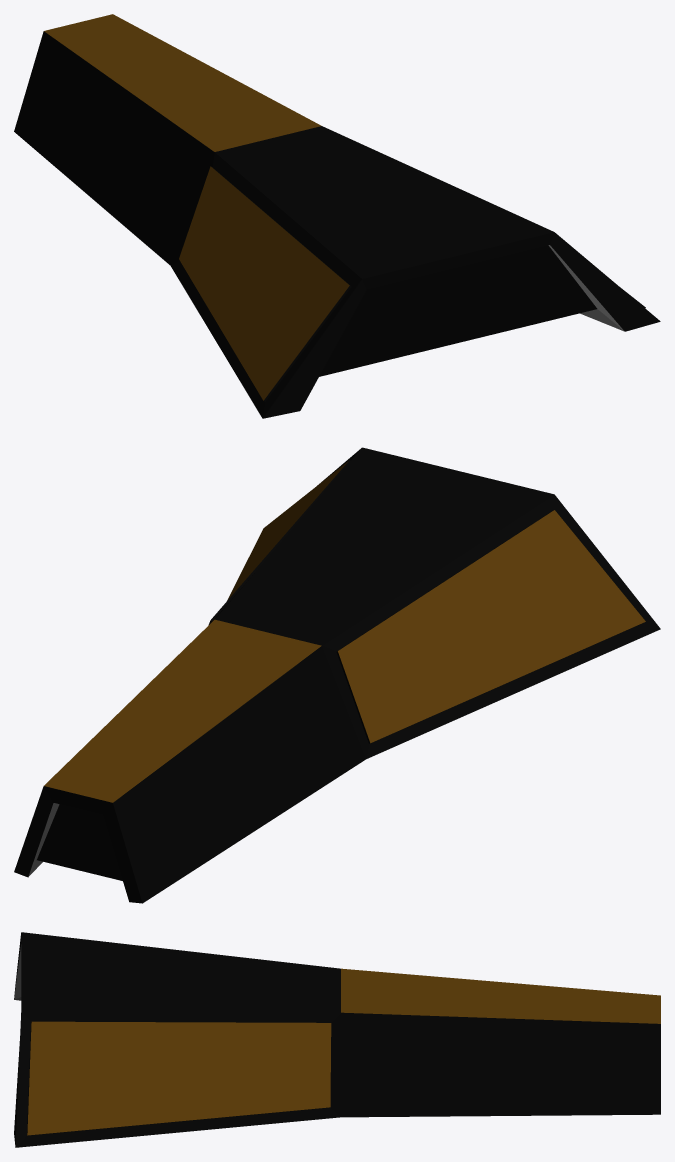
Rendered from E-2_Frame_Part_Wipeout.fbx.
The picture shows the model from 3 angles, top to bottom: view 1: azimuth 30°, elevation 25°; view 2: azimuth 150°, elevation 25°; view 3: azimuth 270°, elevation 25°; orthographic projection. The views are drawn at different scales.
Parts seen in each view (by area): view 1: E-2_Frame_Ship; view 2: E-2_Frame_Ship; view 3: E-2_Frame_Ship.
Part boxes in pixels (bbox=[...]): E-2_Frame_Ship: bbox=[14, 14, 660, 418]; E-2_Frame_Ship: bbox=[14, 447, 660, 903]; E-2_Frame_Ship: bbox=[14, 932, 660, 1147].
Bounding box in the file's own units: 564 × 942 × 191.
